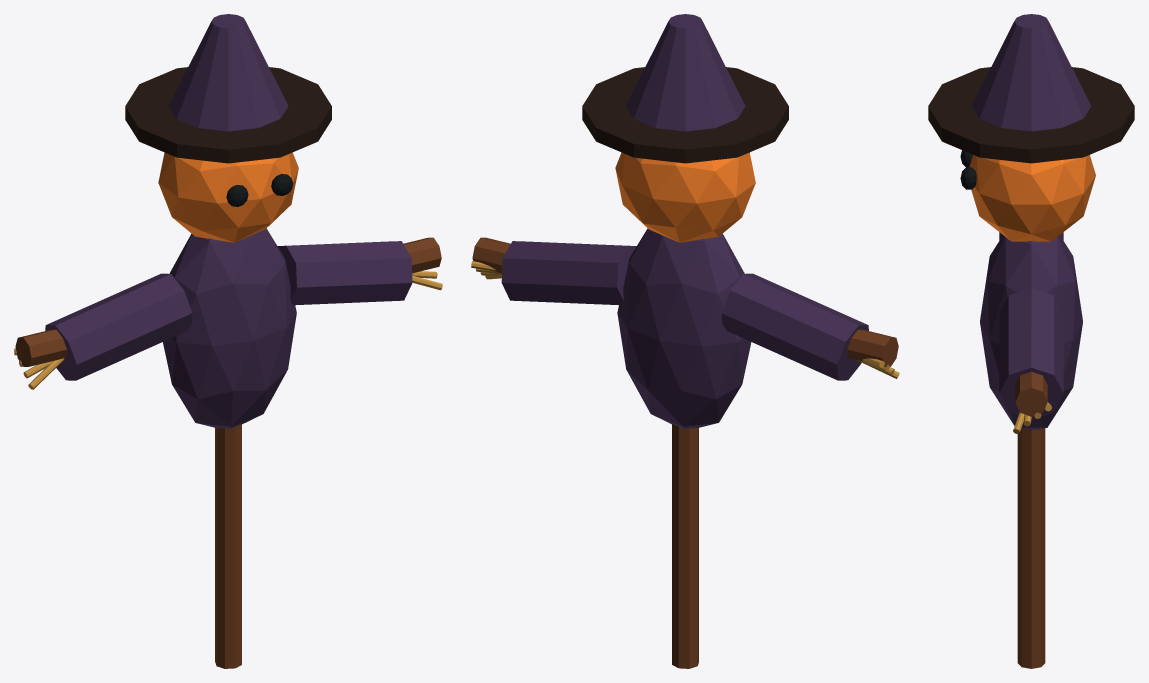
The model's file is scarecrow.glb.
3 renders of one model, left to right at view 1: azimuth 30°, elevation 25°; view 2: azimuth 150°, elevation 25°; view 3: azimuth 270°, elevation 25°, orthographic.
Parts seen in each view (by area): view 1: Friendly harvest keeperMesh; view 2: Friendly harvest keeperMesh; view 3: Friendly harvest keeperMesh.
Boxes of the visible parts, box(x1,y1,x2,y2) form: Friendly harvest keeperMesh: box(14, 14, 442, 668); Friendly harvest keeperMesh: box(471, 14, 899, 668); Friendly harvest keeperMesh: box(928, 14, 1134, 668).
Bounding box in the file's own units: 2.22 × 3.29 × 0.96.
